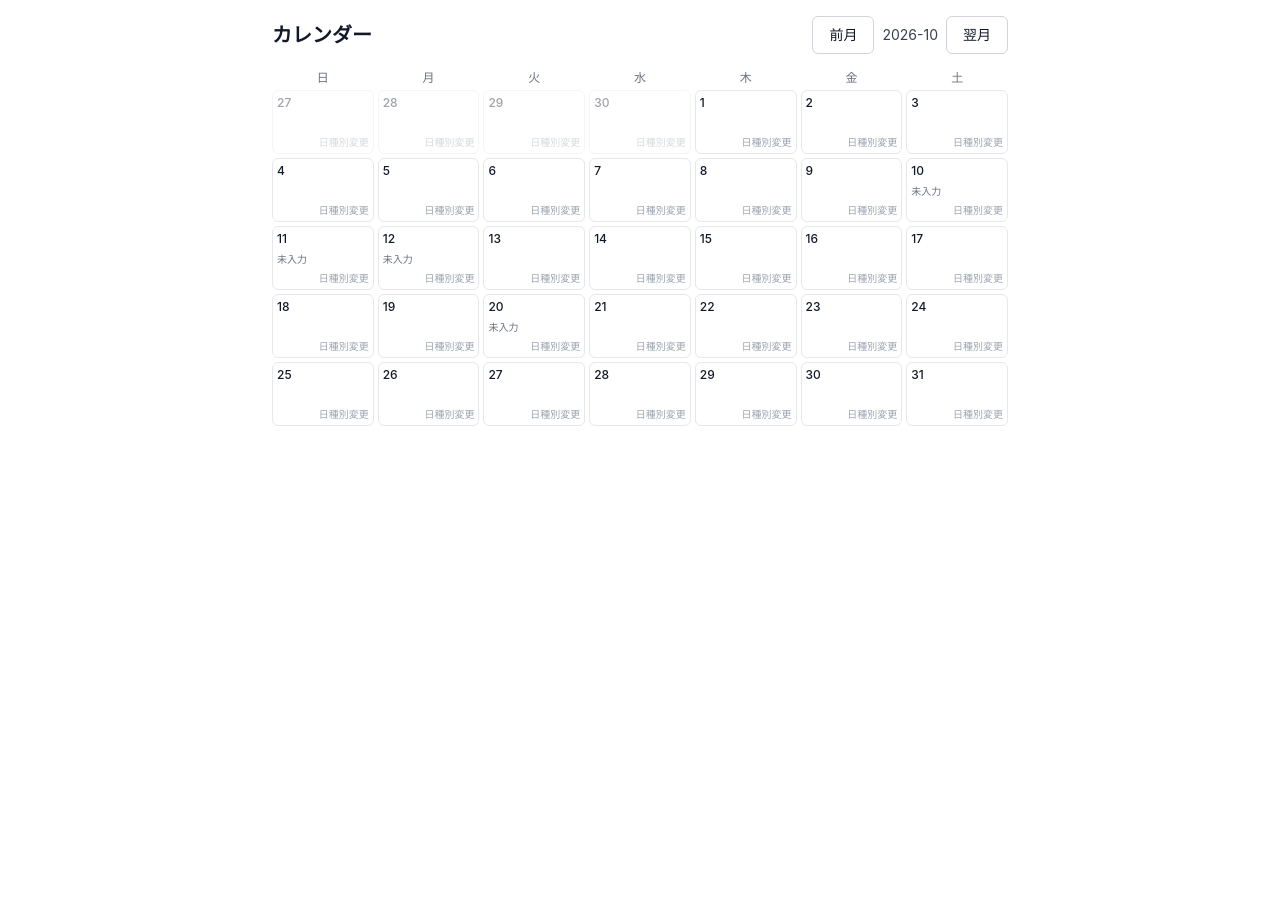
Test: CalendarPage の日付選択 › opens the day type editor from the per-cell link
The image size is (1280, 900).
Expected: the heading "カレンダー" is shown, [272,21,372,49]
Click the 1st button "日種別変更" at {"x": 344, "y": 142}, box [319,136,369,149]
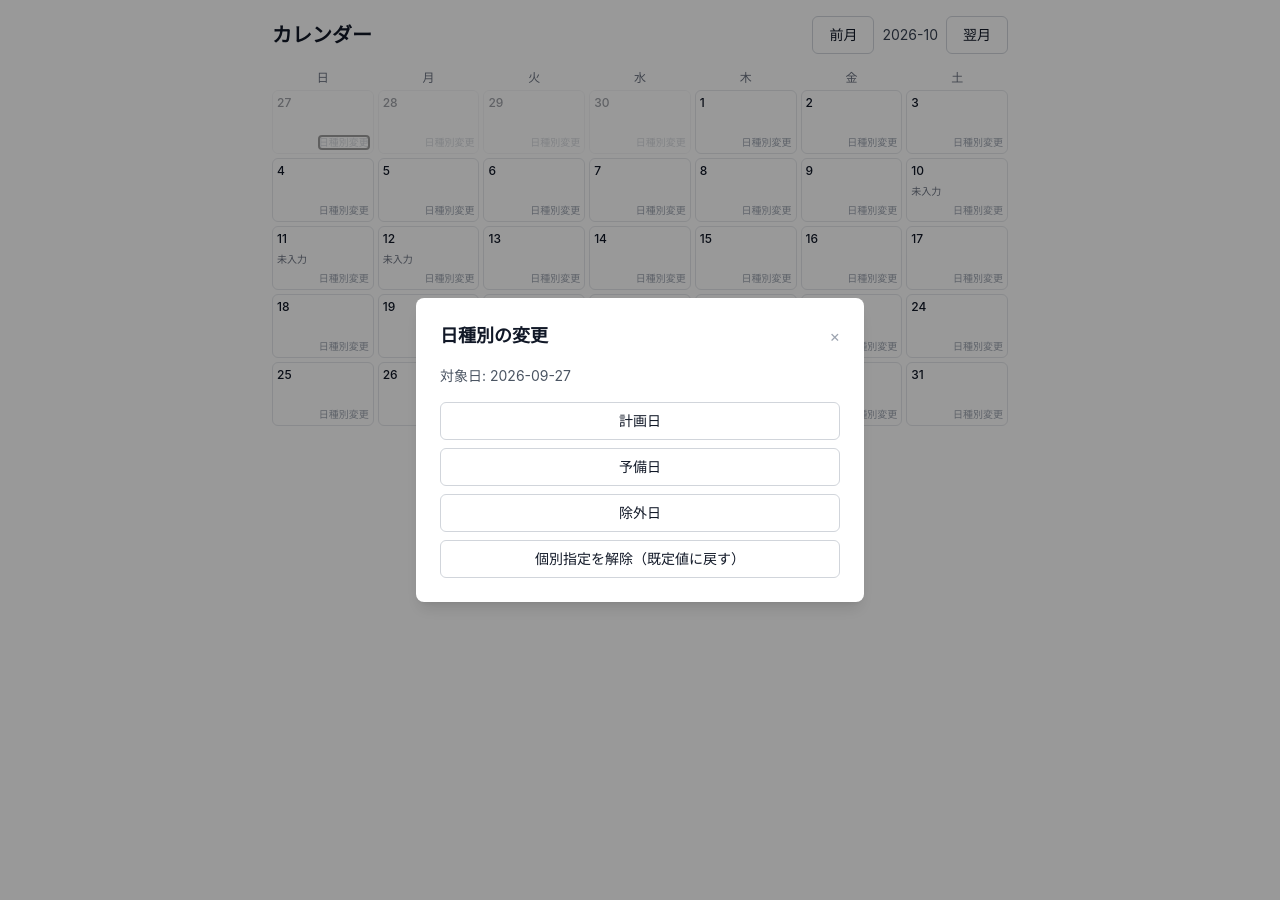
Now the heading "日種別の変更" is shown, box [440,322,548,350]
